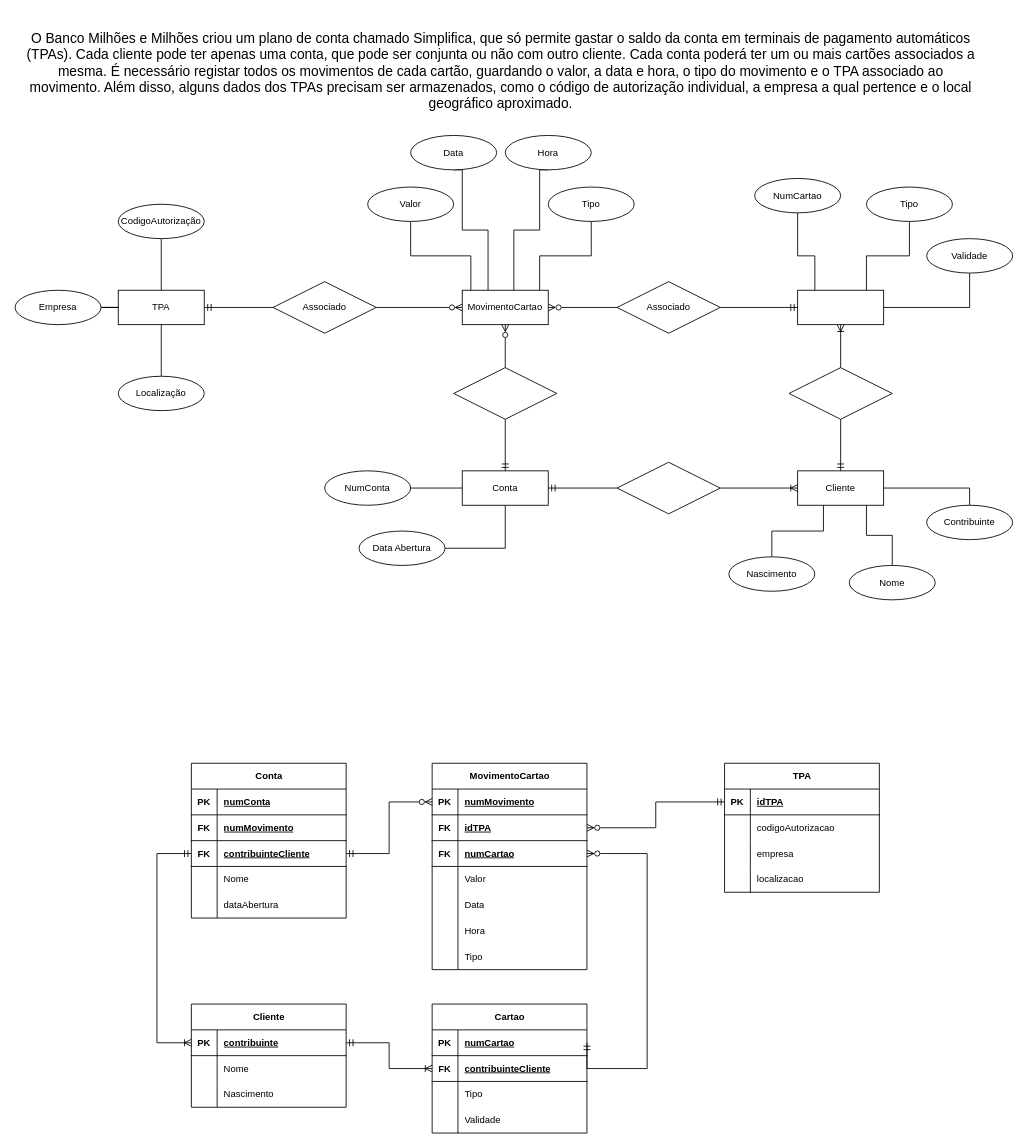
This 1028x1148 diagram has some shape labels left out. Here are the shapes that lost their labels. From the top down, the centre of each, then its label:
the point at 840,307: Cartão
the point at 505,393: Fazer
the point at 840,393: Pussui
the point at 668,487: Tem
